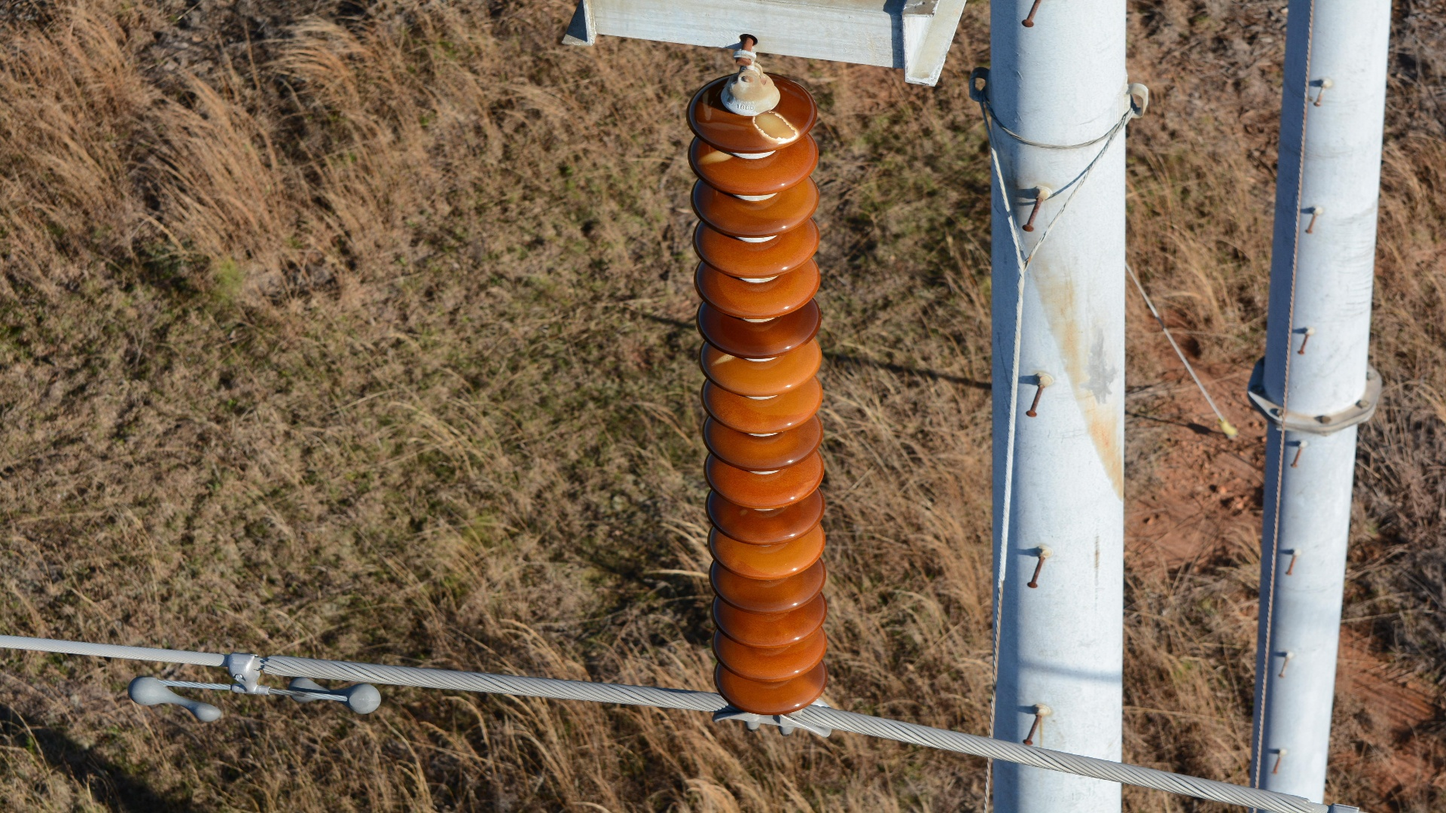damper: (122, 647, 386, 729)
